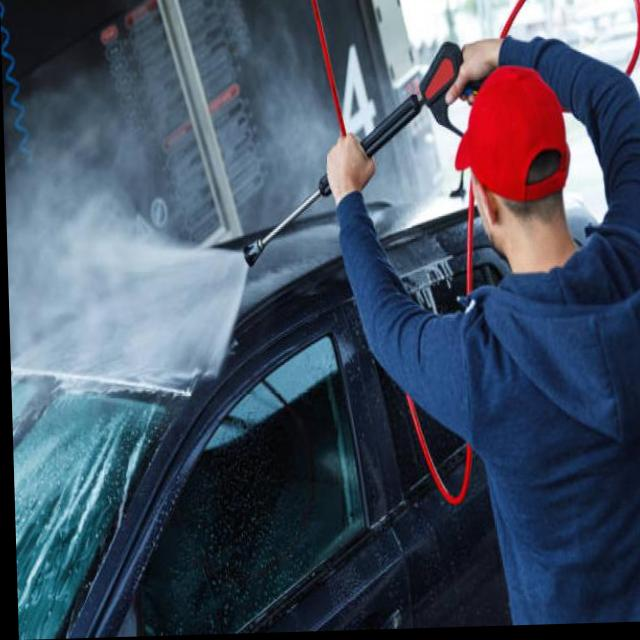no helmet: (447, 65, 589, 293)
